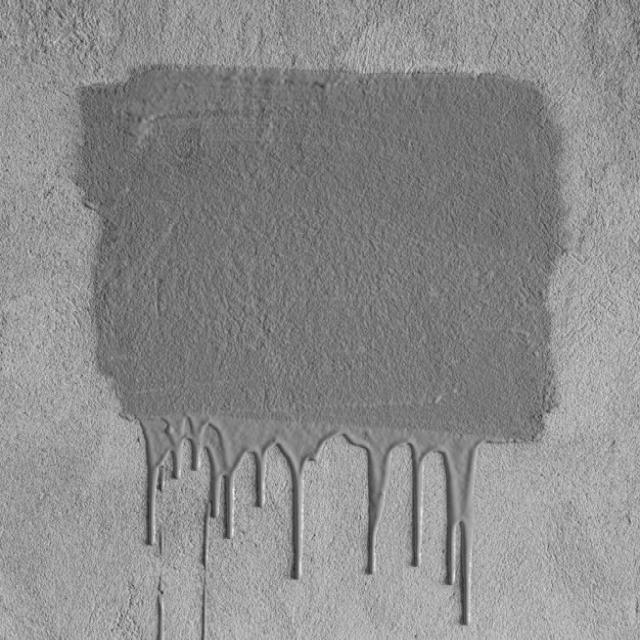paint drips: (84, 370, 564, 631)
